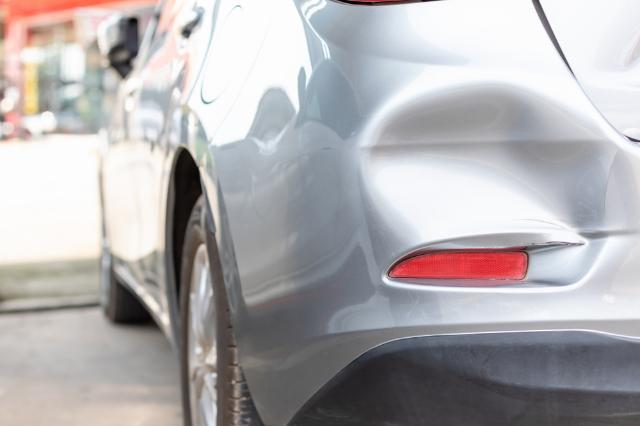dent: (366, 86, 613, 245)
